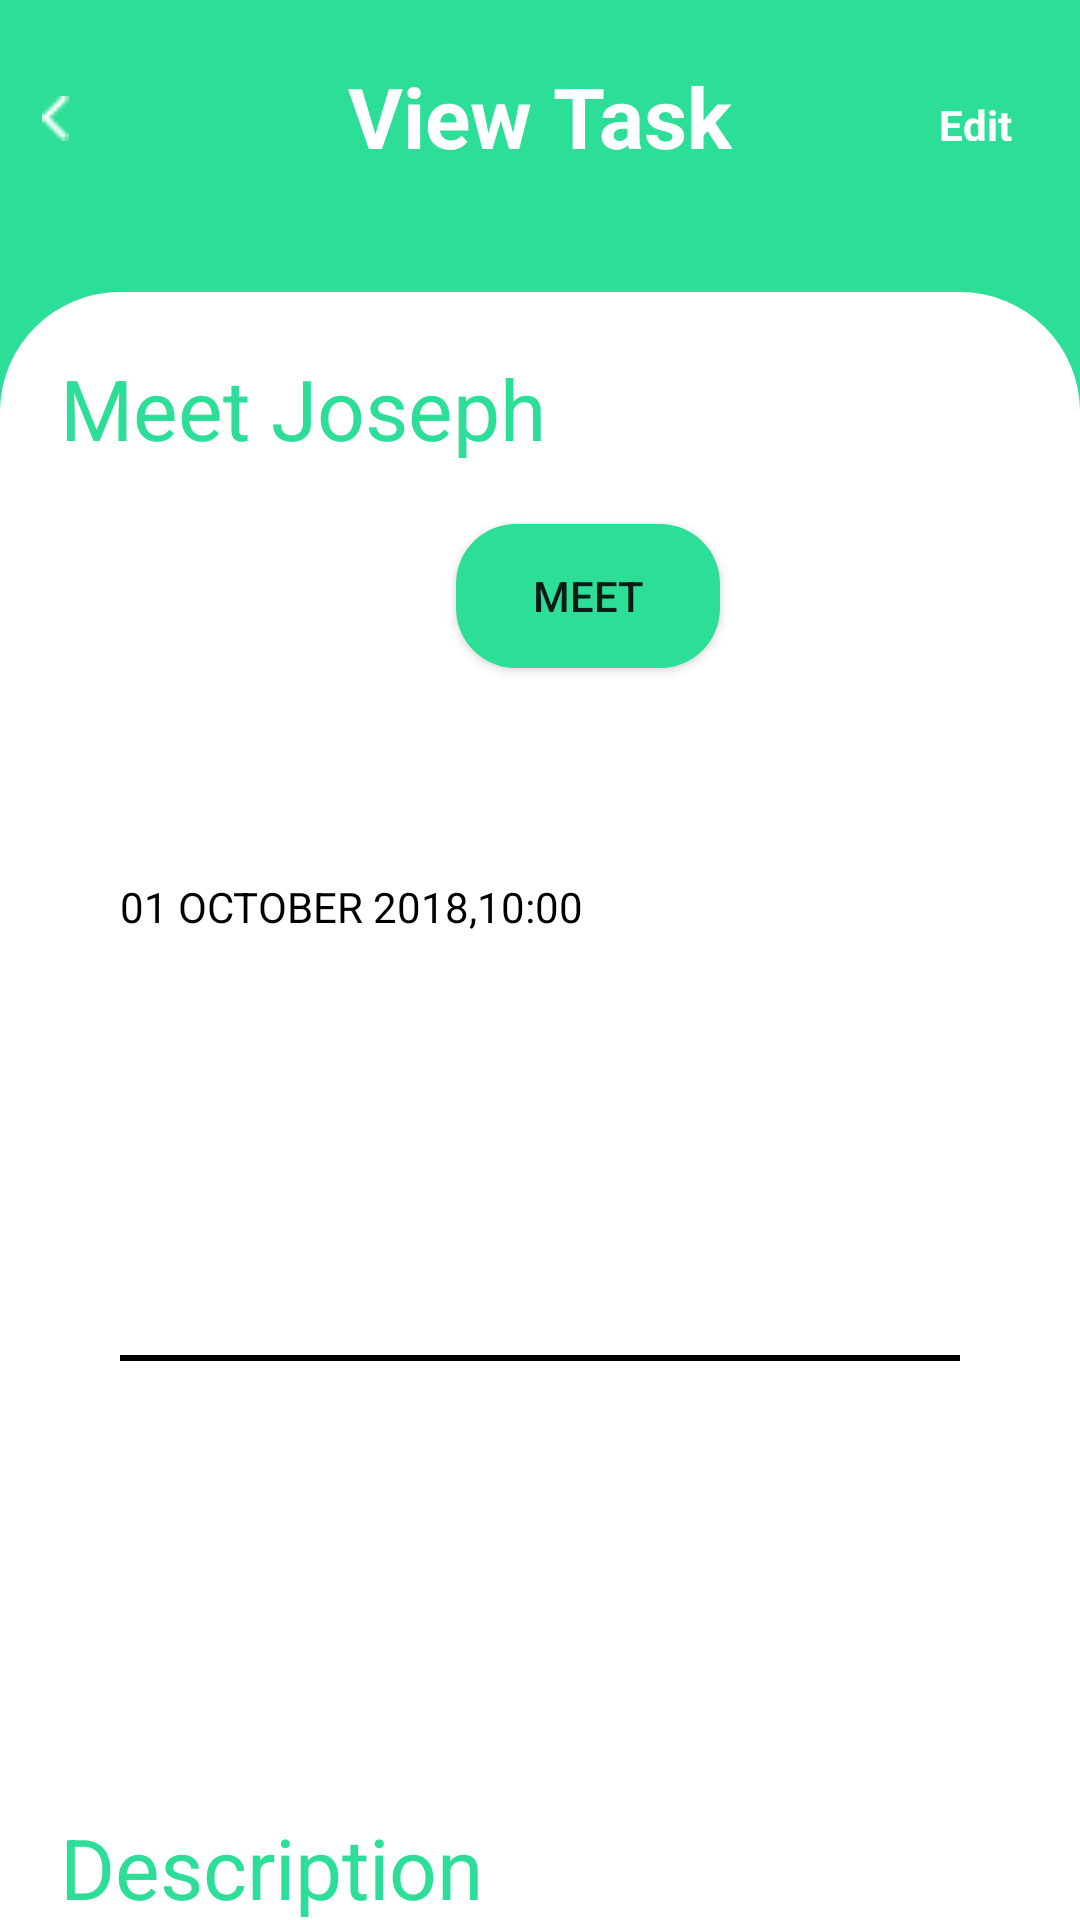

Screen size 1080 × 1920. Icon name, then its center in pixels as [x,y]:
back: [55,118]
